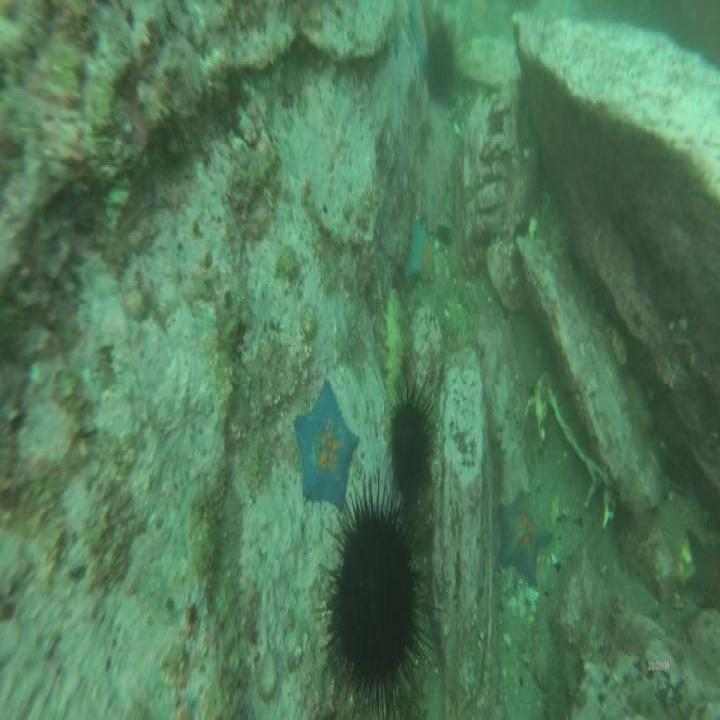echinus: (335, 512, 418, 688), (390, 397, 430, 492), (428, 28, 455, 102)
holothurian: (382, 290, 406, 405)
starfish: (295, 380, 359, 510), (499, 491, 550, 583), (407, 226, 436, 281)
